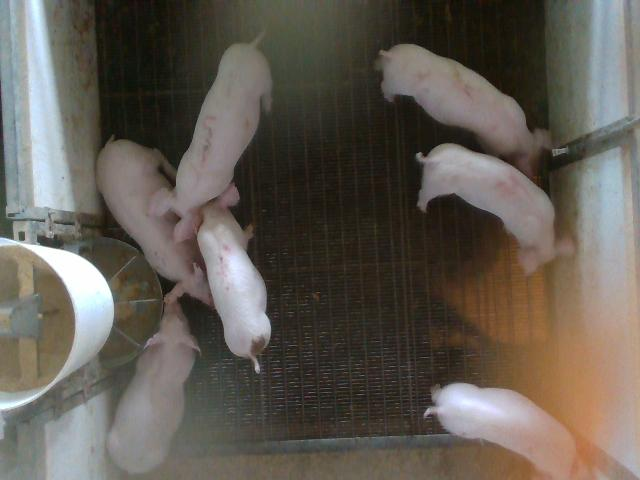pig-3: (149, 31, 271, 242)
pig-4: (416, 144, 574, 273)
pig-5: (198, 184, 271, 373)
